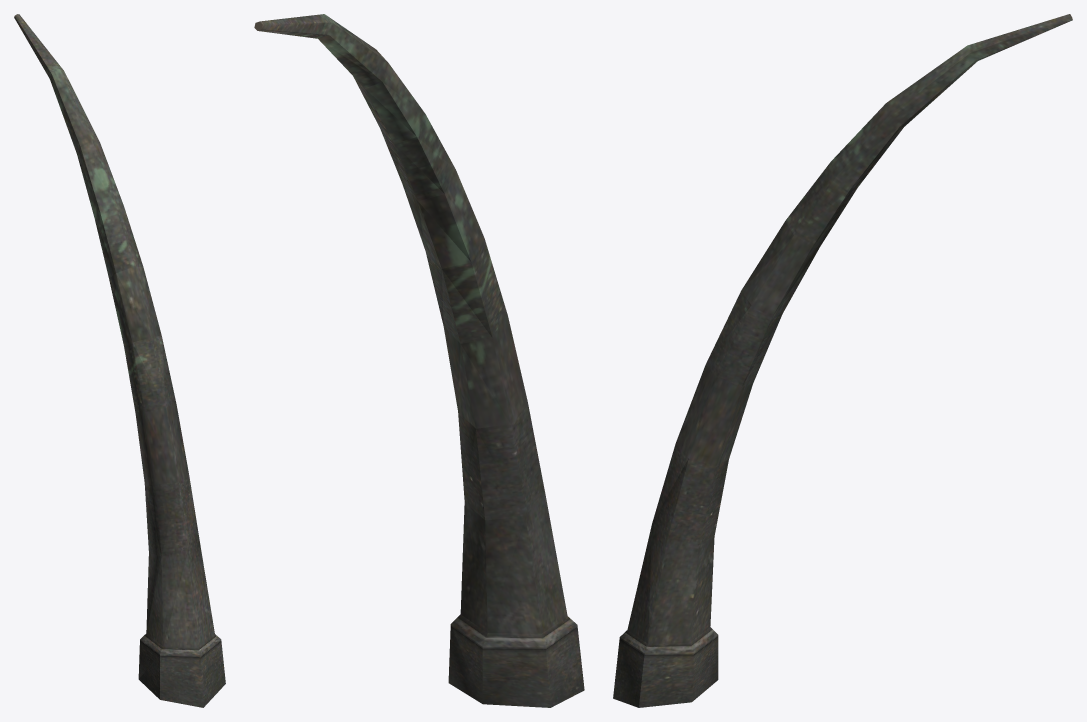
Rendered from Spike04.fbx.
3 views of the same model, side by side, from view 1: azimuth 30°, elevation 25°; view 2: azimuth 150°, elevation 25°; view 3: azimuth 270°, elevation 25° (orthographic). The views are drawn at different scales.
Visible parts, largest first — view 1: Mesh Object; view 2: Mesh Object; view 3: Mesh Object.
Part boxes in pixels (x1=…): Mesh Object: x1=14, y1=14, x2=225, y2=707; Mesh Object: x1=254, y1=14, x2=584, y2=707; Mesh Object: x1=613, y1=14, x2=1072, y2=707.
Size of the model in its own units: 0.2628 by 2.13 by 1.3.
